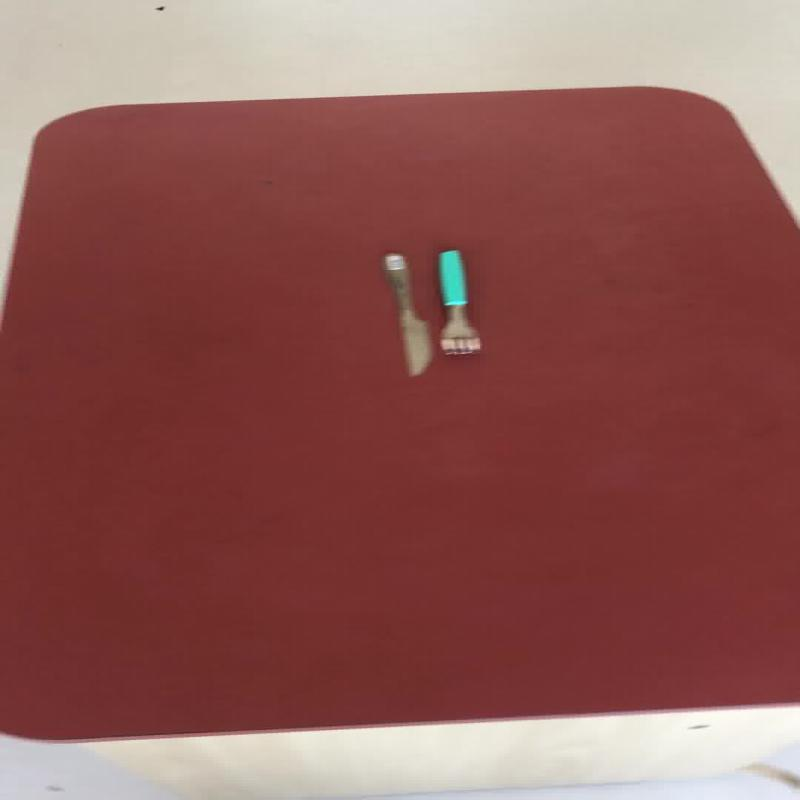fork: (436, 248, 480, 355)
knife: (380, 252, 431, 376)
